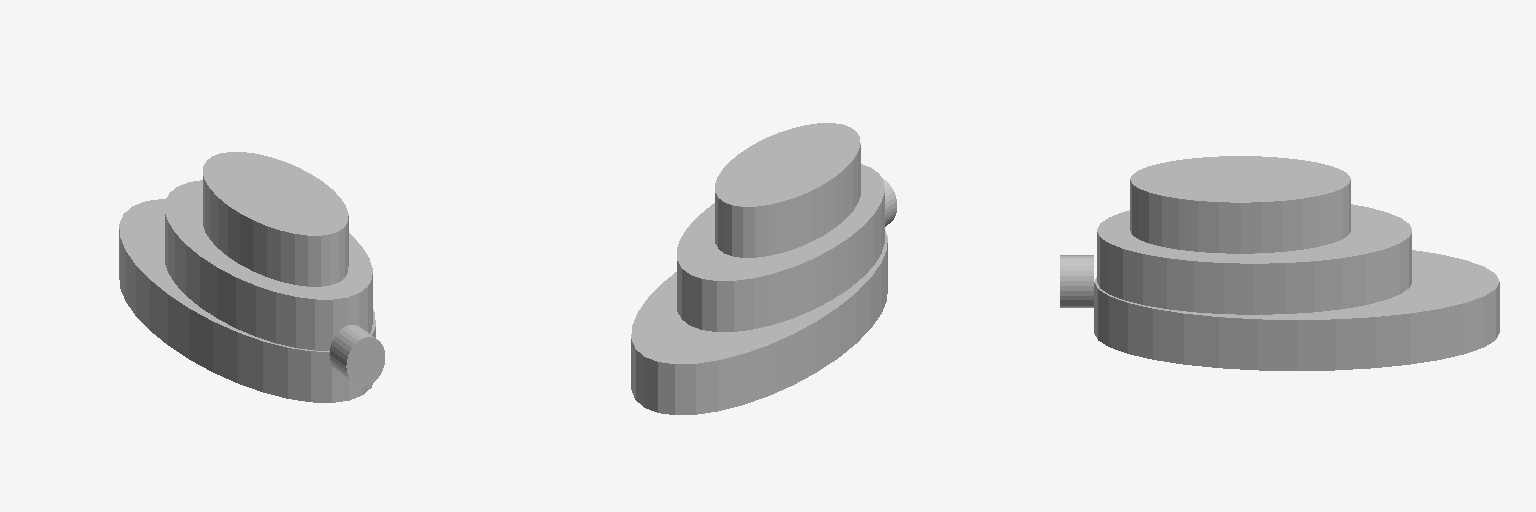
Rendered from cherub.obj.
3 renders of one model, left to right at view 1: azimuth 30°, elevation 25°; view 2: azimuth 150°, elevation 25°; view 3: azimuth 270°, elevation 25°, orthographic.
Parts seen in each view (by area): view 1: Cylinder.003, Cylinder, Cylinder.002, Cylinder.001; view 2: Cylinder, Cylinder.002, Cylinder.003; view 3: Cylinder, Cylinder.002, Cylinder.003, Cylinder.001.
Part boxes in pixels (x1,y1,x2,y2): Cylinder.003: (203, 152, 348, 286); Cylinder: (119, 199, 375, 402); Cylinder.002: (165, 180, 372, 350); Cylinder.001: (329, 325, 384, 386); Cylinder: (631, 231, 887, 414); Cylinder.002: (677, 164, 884, 331); Cylinder.003: (715, 123, 860, 257); Cylinder: (1094, 250, 1499, 370); Cylinder.002: (1097, 204, 1411, 314); Cylinder.003: (1130, 156, 1350, 253); Cylinder.001: (1060, 255, 1093, 307).
Bounding box in the file's own units: 3.24 × 3 × 7.8.